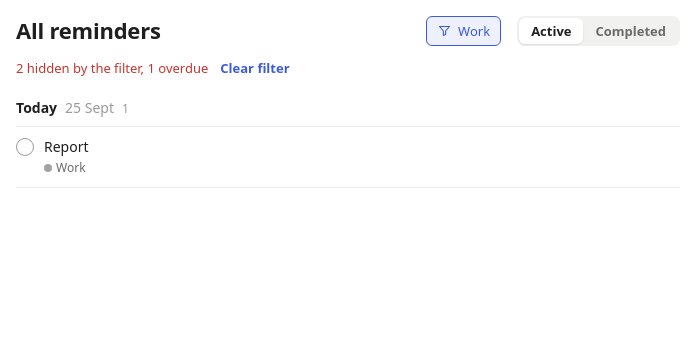
it: AllRemindersView › applies the tag filter, reports hidden reminders, and clears the filter
The width and height of the screenshot is (697, 345).
Expected: the text "Report" is shown, [44,137,88,157]
Expected: the text "Late home task" is not shown
Click the button "Clear filter" at (255, 68), box [220,59,290,78]
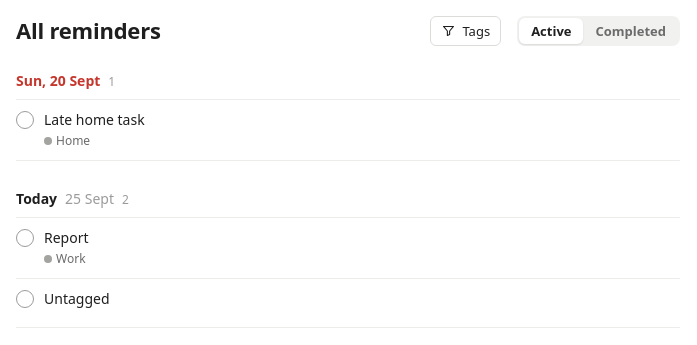
Expected: the text "Late home task" is shown, [44,110,145,130]
Expected: the text "Untagged" is shown, [44,289,110,309]
Expected: the message "2 hidden by the filter, 1 overdue Clear filter" is gone
